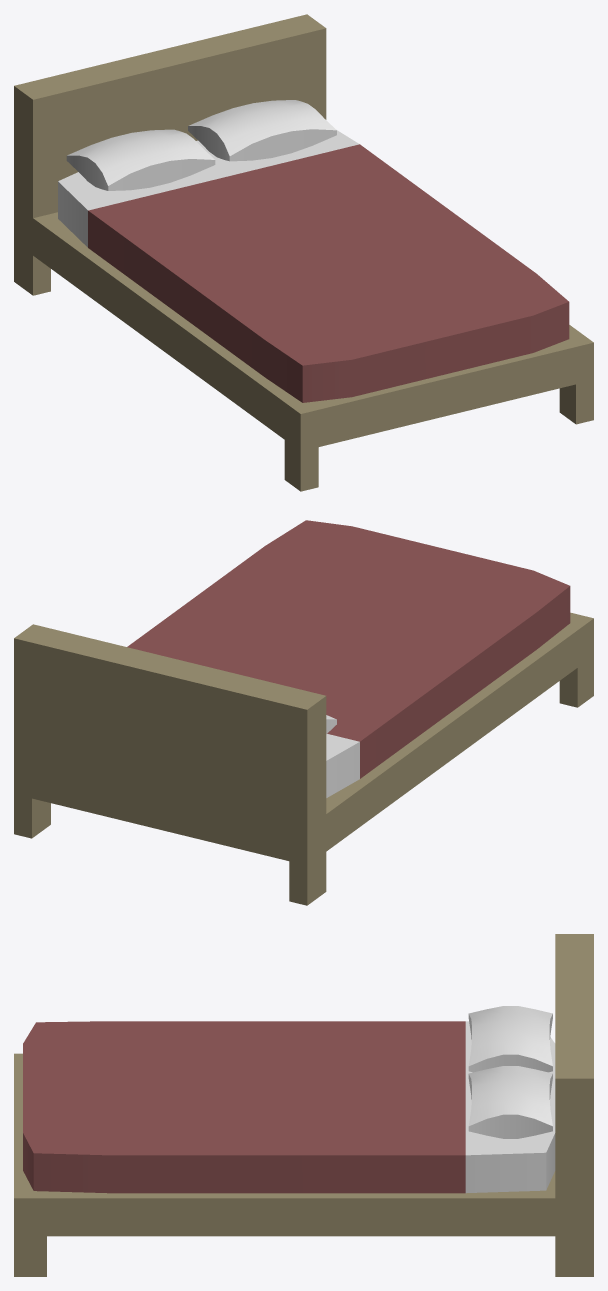
Rendered from bed.fbx.
The picture shows the model from 3 angles, top to bottom: view 1: azimuth 30°, elevation 25°; view 2: azimuth 150°, elevation 25°; view 3: azimuth 270°, elevation 25°; orthographic projection.
Visible parts, largest first — view 1: mattress, bedFrame, pillow01, pillow02; view 2: bedFrame, mattress; view 3: mattress, bedFrame, pillow02, pillow01.
Boxes of the visible parts, x1=… form: mattress: x1=58, y1=130, x2=569, y2=402; bedFrame: x1=14, y1=14, x2=593, y2=491; pillow01: x1=66, y1=129, x2=215, y2=190; pillow02: x1=188, y1=100, x2=336, y2=161; bedFrame: x1=14, y1=612, x2=593, y2=905; mattress: x1=127, y1=520, x2=570, y2=797; mattress: x1=23, y1=1021, x2=555, y2=1193; bedFrame: x1=14, y1=934, x2=593, y2=1276; pillow02: x1=468, y1=1066, x2=552, y2=1138; pillow01: x1=468, y1=1006, x2=552, y2=1072.
Bounding box in the file's own units: 8.2 × 5.23 × 13.88.
